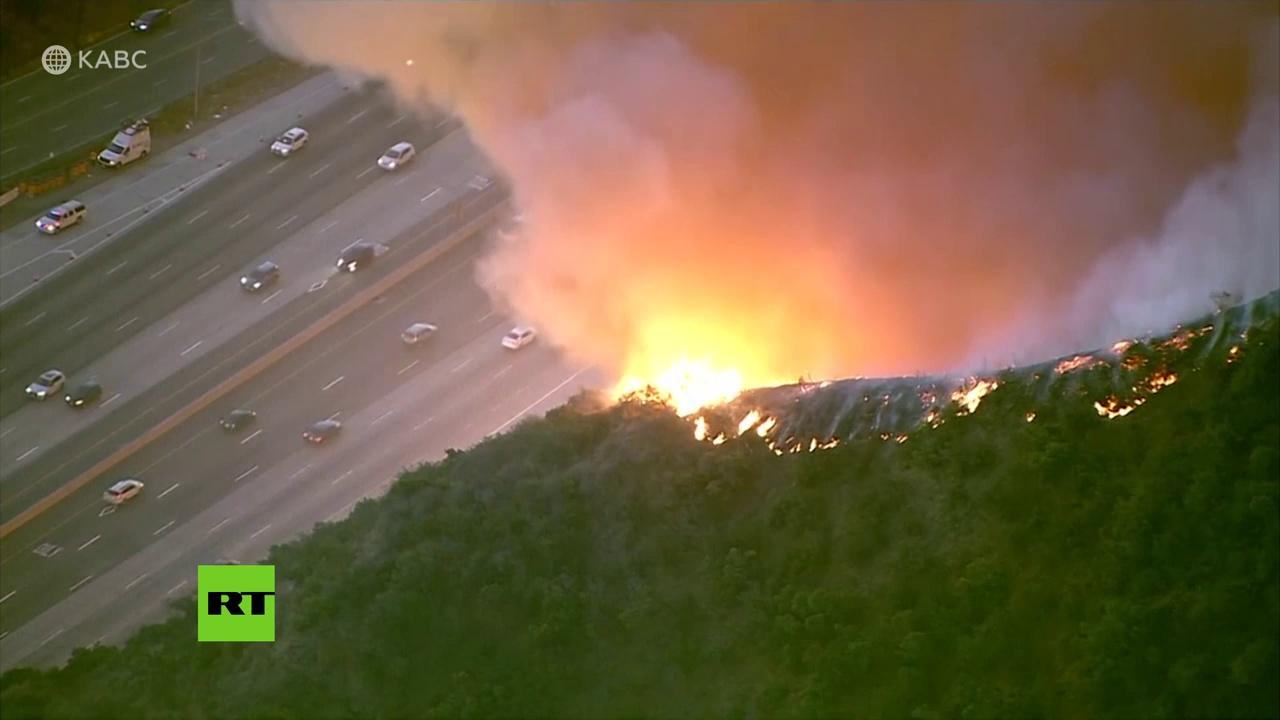Fire: (612, 361, 752, 417), (691, 412, 841, 457), (1094, 370, 1180, 419), (947, 377, 997, 422), (1056, 351, 1091, 374)
